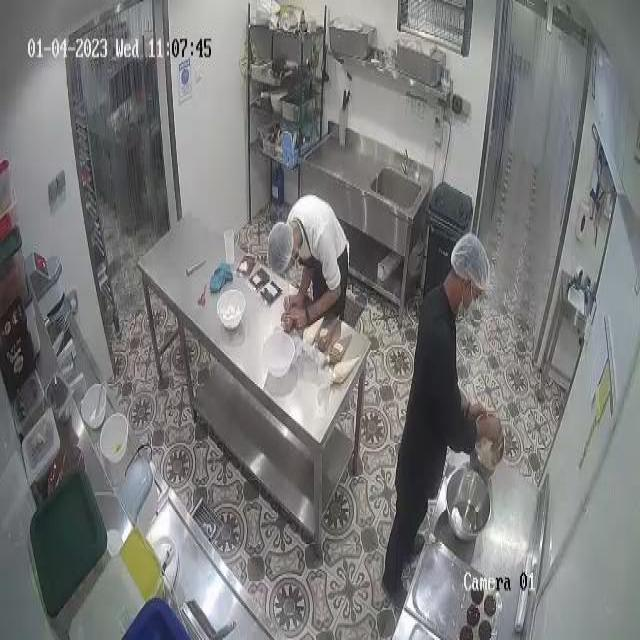hairnet: (452, 238, 491, 285), (265, 223, 293, 274)
